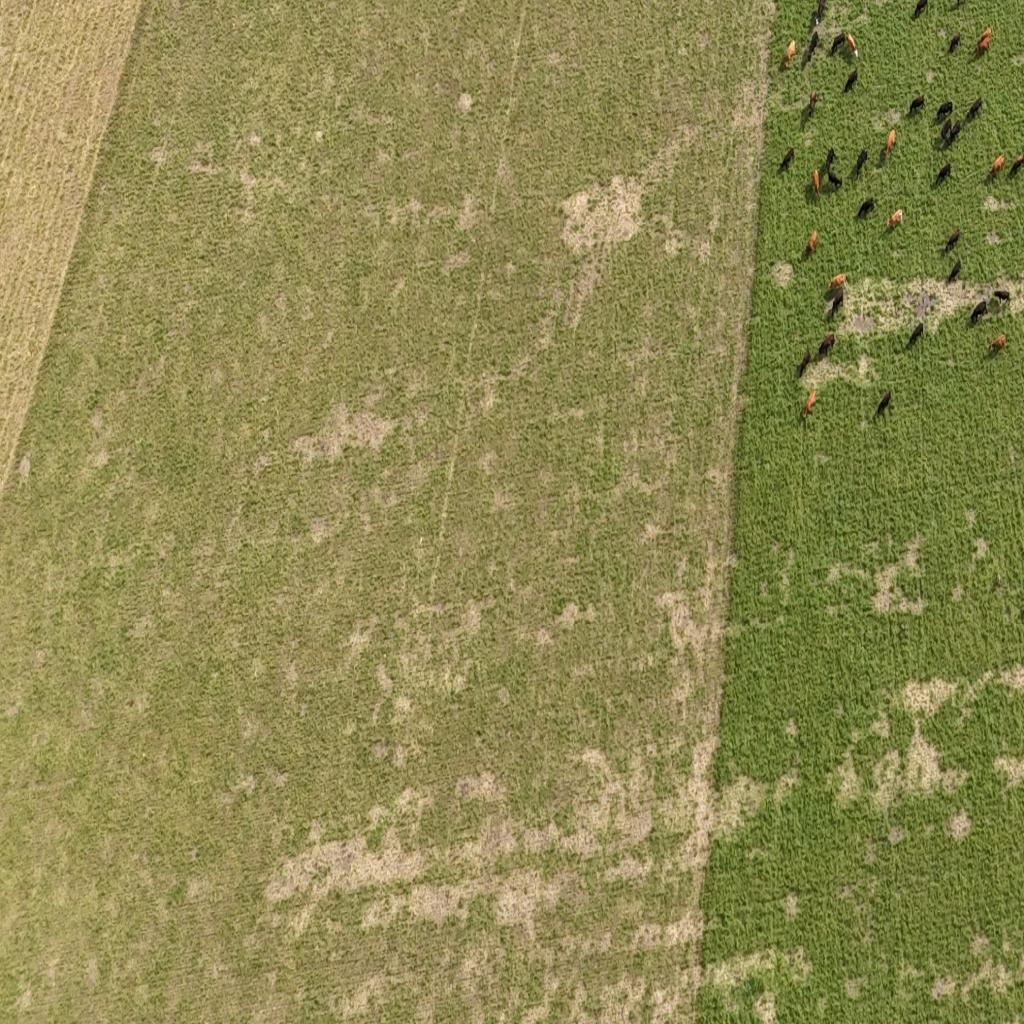cow: (775, 35, 800, 74), (872, 384, 896, 423), (950, 108, 974, 142), (776, 145, 799, 179), (826, 285, 844, 323), (803, 32, 822, 66), (974, 33, 993, 64), (908, 319, 926, 351), (986, 332, 1008, 357), (852, 146, 868, 180), (801, 389, 816, 424), (941, 121, 959, 150), (992, 292, 1012, 318), (818, 333, 835, 361), (935, 100, 954, 124), (968, 301, 986, 326), (945, 227, 962, 253), (934, 163, 952, 187), (946, 260, 962, 285), (908, 94, 926, 116), (975, 28, 997, 46), (966, 98, 983, 120), (830, 33, 846, 56), (991, 154, 1006, 178), (888, 209, 904, 231), (878, 138, 891, 165), (800, 348, 812, 376), (948, 33, 963, 55), (846, 68, 858, 95), (859, 198, 876, 217), (829, 274, 849, 290), (914, 0, 930, 20), (885, 130, 896, 159), (824, 146, 836, 172), (828, 168, 842, 190), (814, 0, 826, 25), (808, 228, 818, 253), (812, 168, 820, 199), (809, 90, 818, 114), (847, 32, 857, 53), (1016, 157, 1024, 180)
